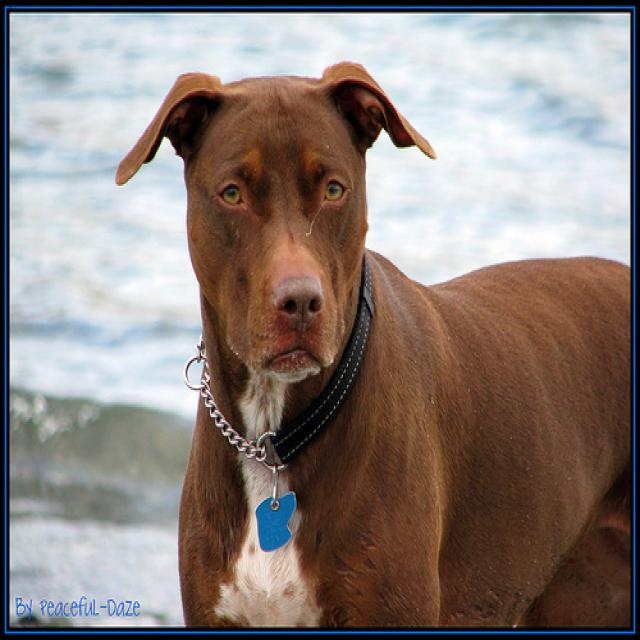dog-american_pit_bull_terrier: (104, 51, 637, 637)
